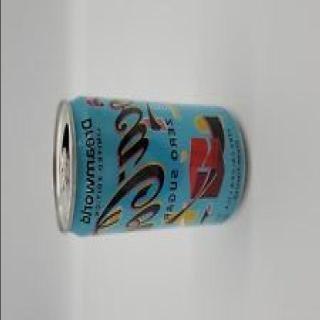Anorganik: (47, 88, 257, 240)
